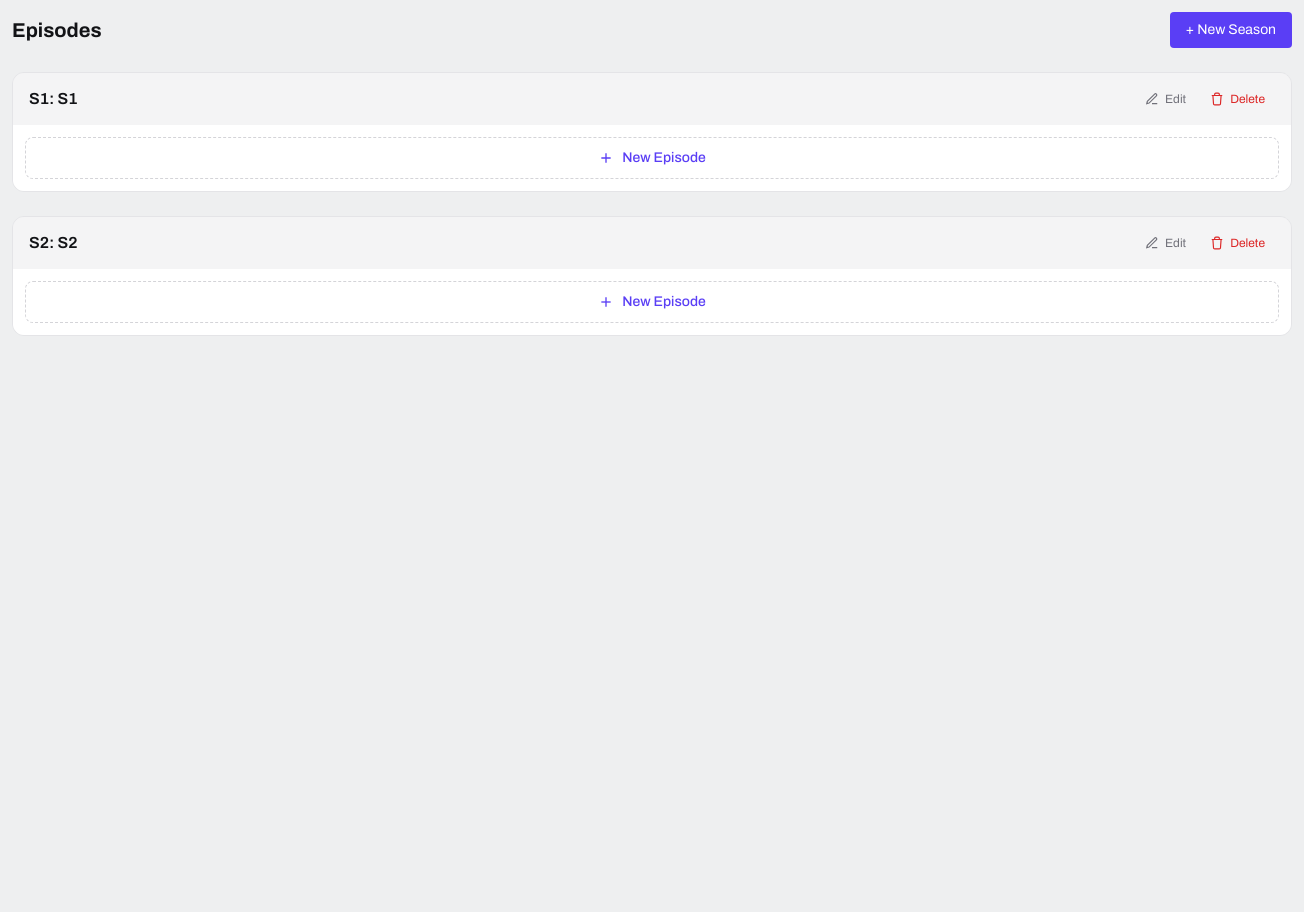
Scenario: episode creation flow › clicking "+ New Episode" opens the form panel
Expected: the text "S1: S1" is shown, [29,87,77,111]
Click the 1st button "New Episode" at (652, 158), box [25,137,1279,179]
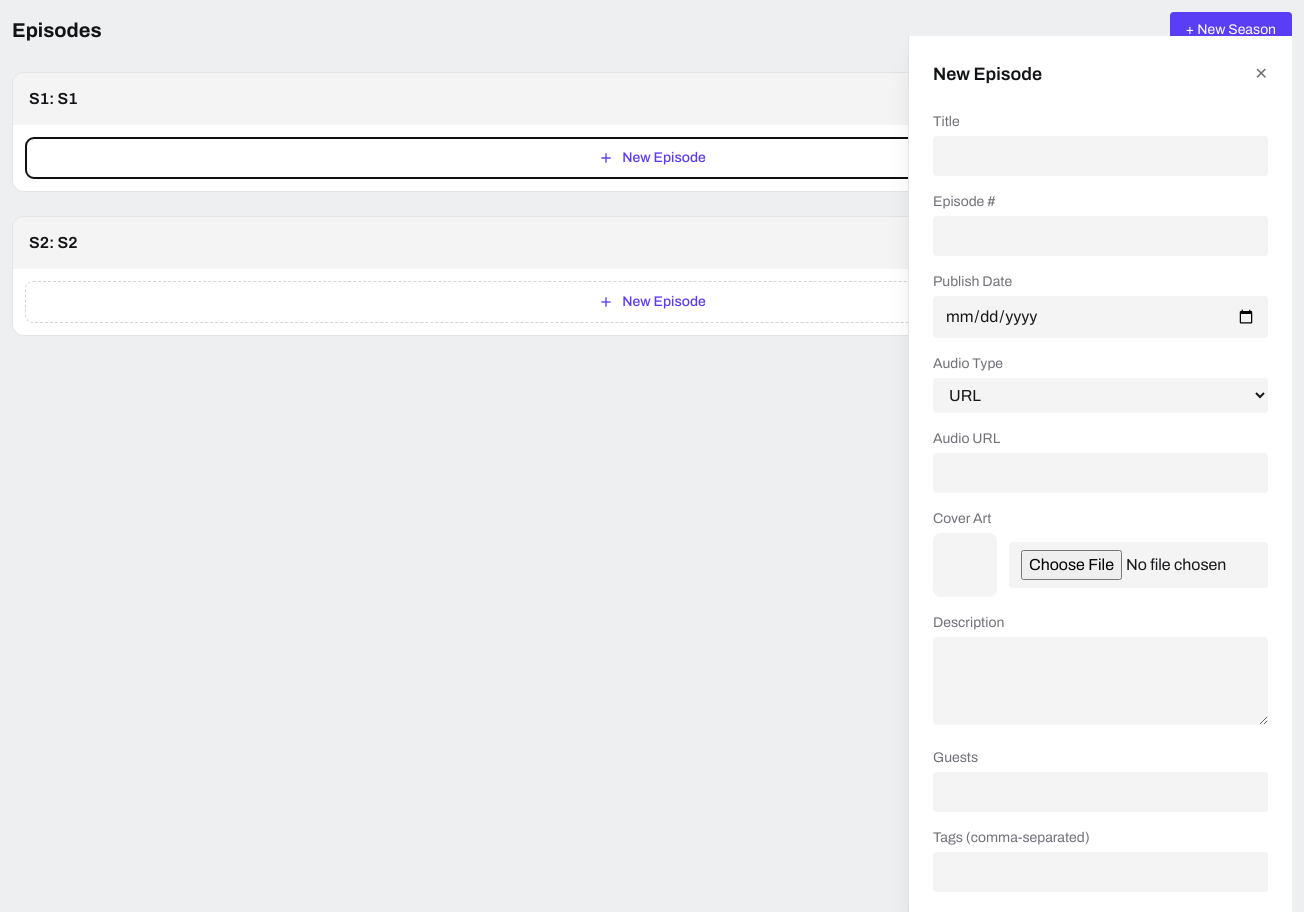
Result: the heading "New Episode" is shown at [933,60,1042,88]
